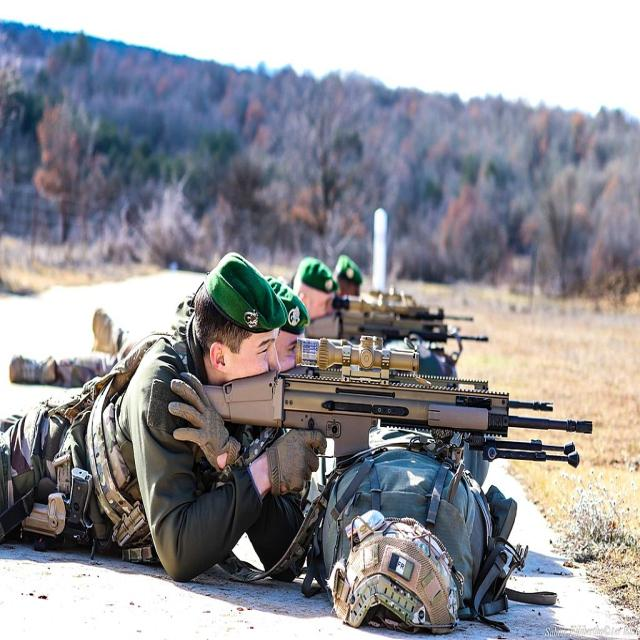Gun: (192, 349, 586, 474)
